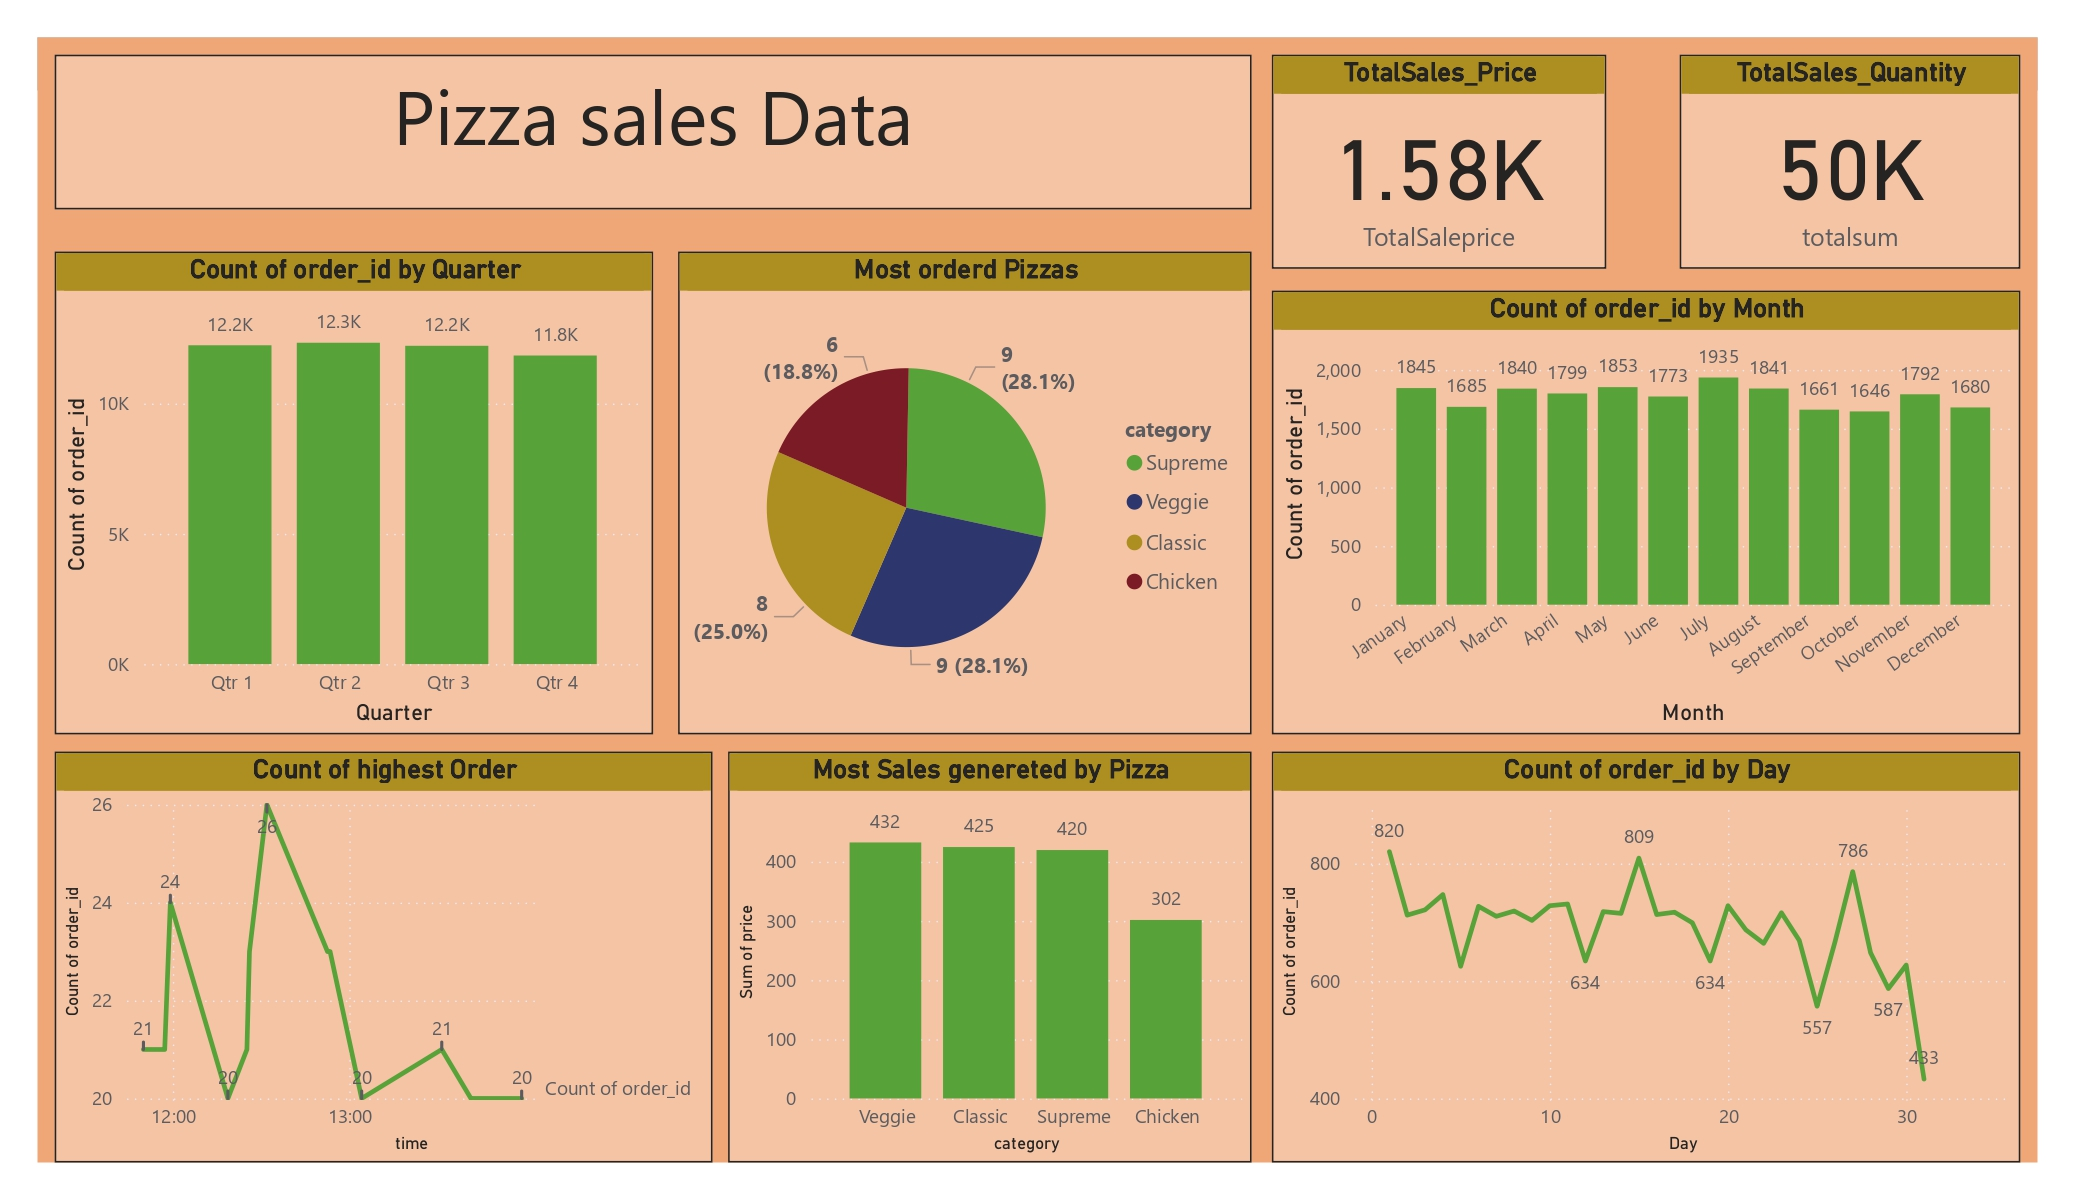

Layout of this report page (visuals, bound fields, positions):
{"tool":"powerbi","page":{"name":"Page 1","canvas":[1280,720],"ordinal":0},"visuals":[{"type":"lineChart","title":"Count of highest Order ","fields":{"Y":["CountNonNull(order_details.order_id)"],"Category":["orders.time"]},"box":[11,456.9,421.3,263.5],"z":0},{"type":"card","title":"TotalSales_Quantity","fields":{"Values":["order_details.totalsum"]},"box":[1051.1,11,218.2,137.2],"z":1000},{"type":"card","title":"TotalSales_Price","fields":{"Values":["pizzas.TotalSaleprice"]},"box":[790.4,11,214.1,137.2],"z":2000},{"type":"pieChart","title":"Most orderd Pizzas","fields":{"Category":["pizza_types.category"],"Y":["CountNonNull(pizza_types.category)"]},"box":[410.3,137.2,366.4,308.7],"z":3000},{"type":"clusteredColumnChart","title":"Most Sales genereted by Pizza","fields":{"Category":["pizza_types.category"],"Y":["Sum(pizzas.price)"]},"box":[441.9,456.9,334.8,263.5],"z":4000},{"type":"textbox","box":[11,11,765.7,98.8],"z":5000},{"type":"columnChart","fields":{"Y":["CountNonNull(orders.order_id)"],"Category":["orders.date.Variation.Date Hierarchy.Month"]},"box":[790.4,161.9,478.9,284],"z":6000},{"type":"lineChart","fields":{"Y":["CountNonNull(orders.order_id)"],"Category":["orders.date.Variation.Date Hierarchy.Day"]},"box":[790,457,479,263],"z":7000},{"type":"columnChart","fields":{"Category":["orders.date.Variation.Date Hierarchy.Quarter"],"Y":["CountNonNull(order_details.order_id)"]},"box":[11,137.2,382.8,308.7],"z":8000}]}

Visuals, with their boxes in screenshot pixels (x1, y1, x2, y2):
"Count of highest Order " lineChart: left=55, top=751, right=713, bottom=1162
"TotalSales_Quantity" card: left=1680, top=55, right=2021, bottom=269
"TotalSales_Price" card: left=1272, top=55, right=1607, bottom=269
"Most orderd Pizzas" pieChart: left=679, top=252, right=1251, bottom=734
"Most Sales genereted by Pizza" clusteredColumnChart: left=728, top=751, right=1251, bottom=1162
textbox: left=55, top=55, right=1251, bottom=209
columnChart - CountNonNull(orders.order_id) x orders.date.Variation.Date Hierarchy.Month: left=1272, top=290, right=2021, bottom=734
lineChart - CountNonNull(orders.order_id) x orders.date.Variation.Date Hierarchy.Day: left=1272, top=752, right=2020, bottom=1162
columnChart - orders.date.Variation.Date Hierarchy.Quarter x CountNonNull(order_details.order_id): left=55, top=252, right=653, bottom=734
